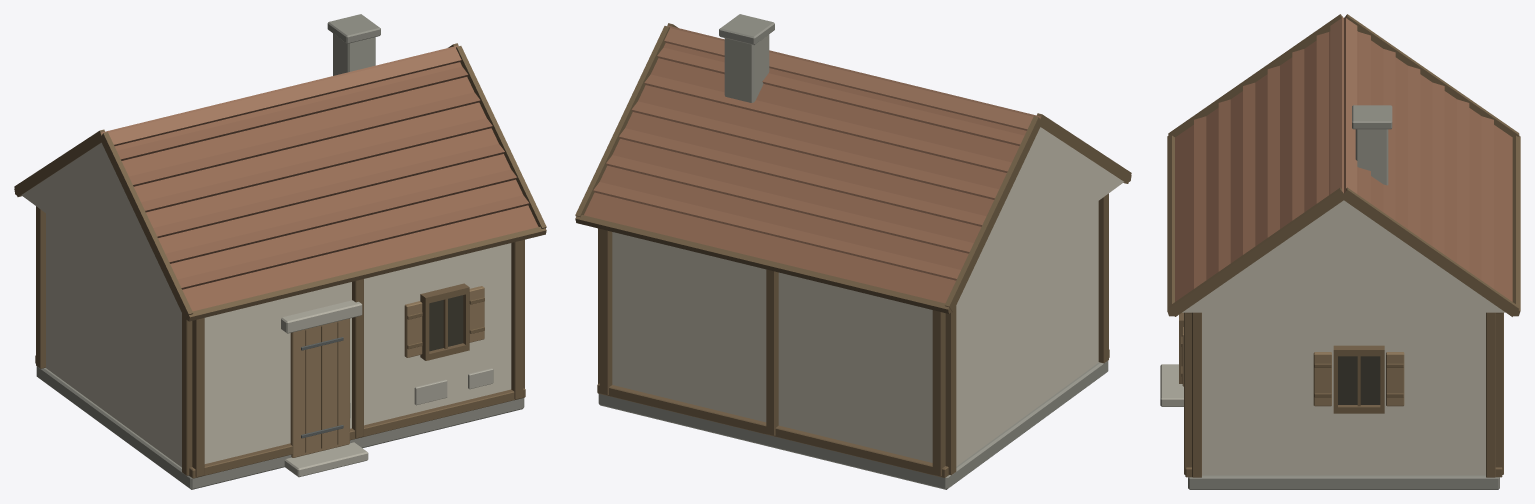
File: house_plaster.glb
3 renders of one model, left to right at view 1: azimuth 30°, elevation 25°; view 2: azimuth 150°, elevation 25°; view 3: azimuth 270°, elevation 25°, orthographic. The views are drawn at different scales.
Visible parts, largest first — view 1: house_plaster_fort_roof, house_plaster_settlement_lime, house_plaster_oak_dark, house_plaster_oak, house_plaster_fort_stone_dark, house_plaster_fort_roof_light, house_plaster_fort_stone_light, house_plaster_black, house_plaster_fort_masonry; view 2: house_plaster_fort_roof, house_plaster_settlement_lime, house_plaster_oak_dark, house_plaster_fort_stone_dark, house_plaster_fort_roof_light, house_plaster_fort_masonry; view 3: house_plaster_fort_roof, house_plaster_settlement_lime, house_plaster_oak_dark, house_plaster_fort_stone_dark, house_plaster_fort_roof_light, house_plaster_black, house_plaster_oak, house_plaster_fort_masonry, house_plaster_fort_stone_light.
Part boxes in pixels (left/top/right/bottom): house_plaster_fort_roof: left=21, top=62, right=538, bottom=312; house_plaster_settlement_lime: left=46, top=213, right=511, bottom=467; house_plaster_oak_dark: left=14, top=43, right=546, bottom=478; house_plaster_oak: left=290, top=286, right=484, bottom=457; house_plaster_fort_stone_dark: left=36, top=14, right=524, bottom=489; house_plaster_fort_roof_light: left=101, top=45, right=461, bottom=145; house_plaster_fort_stone_light: left=281, top=300, right=493, bottom=477; house_plaster_black: left=429, top=295, right=463, bottom=351; house_plaster_fort_masonry: left=333, top=33, right=375, bottom=75; house_plaster_fort_roof: left=584, top=43, right=1123, bottom=303; house_plaster_settlement_lime: left=612, top=201, right=1098, bottom=466; house_plaster_oak_dark: left=575, top=23, right=1131, bottom=477; house_plaster_fort_stone_dark: left=598, top=14, right=1108, bottom=489; house_plaster_fort_roof_light: left=664, top=25, right=1040, bottom=130; house_plaster_fort_masonry: left=724, top=34, right=769, bottom=102; house_plaster_fort_roof: left=1175, top=31, right=1512, bottom=312; house_plaster_settlement_lime: left=1202, top=312, right=1485, bottom=475; house_plaster_oak_dark: left=1167, top=14, right=1520, bottom=477; house_plaster_fort_stone_dark: left=1188, top=105, right=1499, bottom=489; house_plaster_fort_roof_light: left=1330, top=16, right=1357, bottom=193; house_plaster_black: left=1338, top=356, right=1380, bottom=404; house_plaster_oak: left=1182, top=327, right=1404, bottom=406; house_plaster_fort_masonry: left=1355, top=129, right=1388, bottom=185; house_plaster_fort_stone_light: left=1160, top=364, right=1183, bottom=406.
Size of the model in its own units: 5.46 by 4.91 by 4.73.
